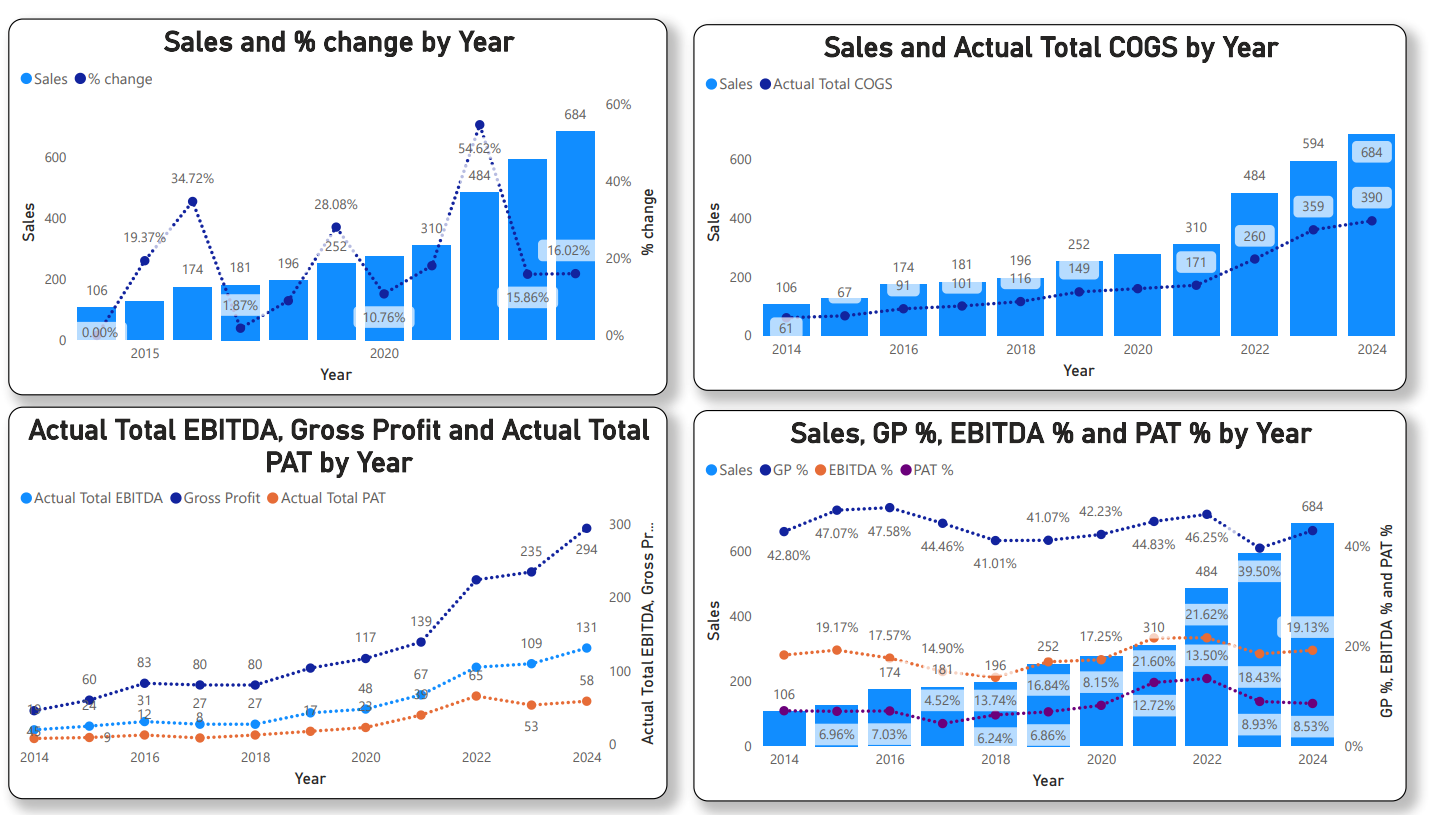

This screenshot's page, from the dashboard's own definition file:
{"tool":"powerbi","page":{"name":"Financial Highlights","canvas":[1280,720],"ordinal":1},"visuals":[{"type":"lineClusteredColumnComboChart","fields":{"Category":["Date Dim.Date.Variation.Date Hierarchy.Year"],"Y":["P&L Fact.Sales"],"Y2":["P&L Fact.% change"]},"box":[9.7,12.1,586.3,335.4],"z":0},{"type":"lineClusteredColumnComboChart","fields":{"Category":["Date Dim.Date.Variation.Date Hierarchy.Year"],"Y":["P&L Fact.Sales"],"Y2":["P&L Fact.Actual Total COGS"]},"box":[618.9,16.9,634.6,325.7],"z":1000},{"type":"lineChart","fields":{"Category":["Date Dim.Date.Variation.Date Hierarchy.Year"],"Y2":["P&L Fact.Actual Total EBITDA","P&L Fact.Gross Profit","P&L Fact.Actual Total PAT"]},"box":[9.7,357.1,586.3,348.7],"z":2000},{"type":"lineClusteredColumnComboChart","fields":{"Category":["Date Dim.Date.Variation.Date Hierarchy.Year"],"Y":["P&L Fact.Sales"],"Y2":["P&L Fact.GP %","P&L Fact.EBITDA %","P&L Fact.PAT %"]},"box":[618.9,359.5,634.6,348.7],"z":3000}]}

Visuals, with their boxes in screenshot pixels (x1, y1, x2, y2), scaled from the page's 1280x720 canvas onto the 1432x830 screenshot:
lineClusteredColumnComboChart - Date Dim.Date.Variation.Date Hierarchy.Year x P&L Fact.Sales: detection(11, 14, 667, 401)
lineClusteredColumnComboChart - Date Dim.Date.Variation.Date Hierarchy.Year x P&L Fact.Sales: detection(692, 19, 1402, 395)
lineChart - Date Dim.Date.Variation.Date Hierarchy.Year x P&L Fact.Actual Total EBITDA: detection(11, 412, 667, 814)
lineClusteredColumnComboChart - Date Dim.Date.Variation.Date Hierarchy.Year x P&L Fact.Sales: detection(692, 414, 1402, 816)
